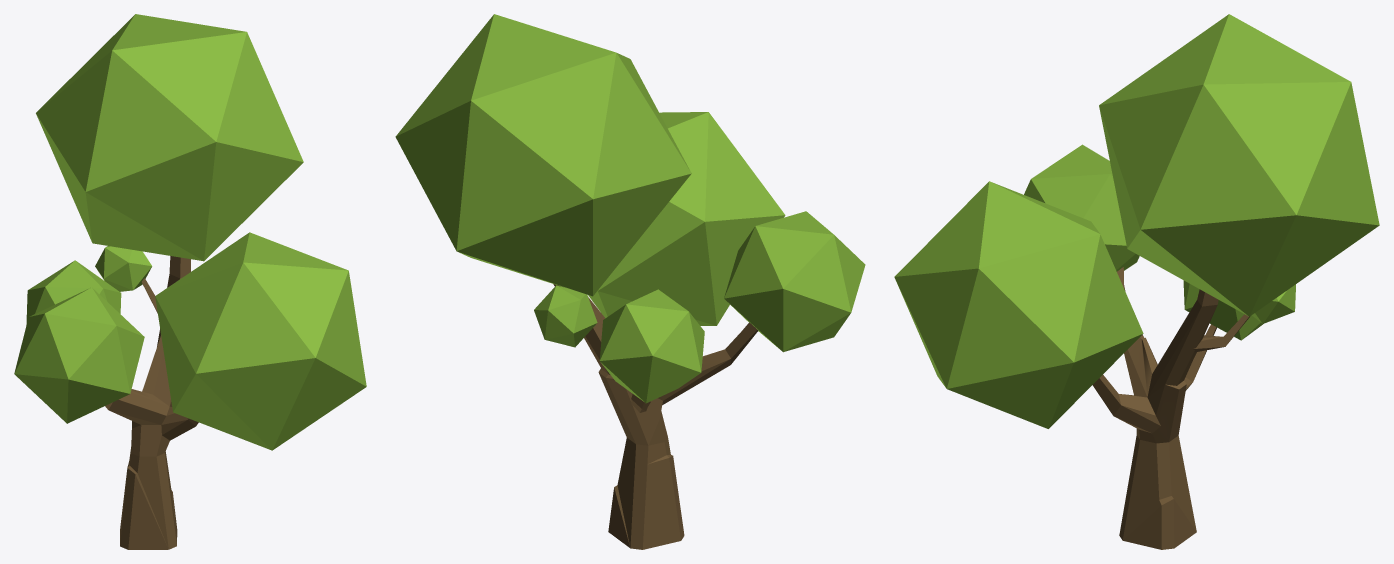
The model's file is model_polytope_tree03.fbx.
The picture shows the model from 3 angles, left to right: view 1: azimuth 30°, elevation 25°; view 2: azimuth 150°, elevation 25°; view 3: azimuth 270°, elevation 25°; orthographic projection. The views are drawn at different scales.
Parts seen in each view (by area): view 1: model_polytope_tree03; view 2: model_polytope_tree03; view 3: model_polytope_tree03.
Boxes of the visible parts, x1,y1,x2,y2 form: model_polytope_tree03: (14,14,366,549); model_polytope_tree03: (395,14,865,549); model_polytope_tree03: (894,14,1379,549).
Size of the model in its own units: 427 by 578 by 491.
